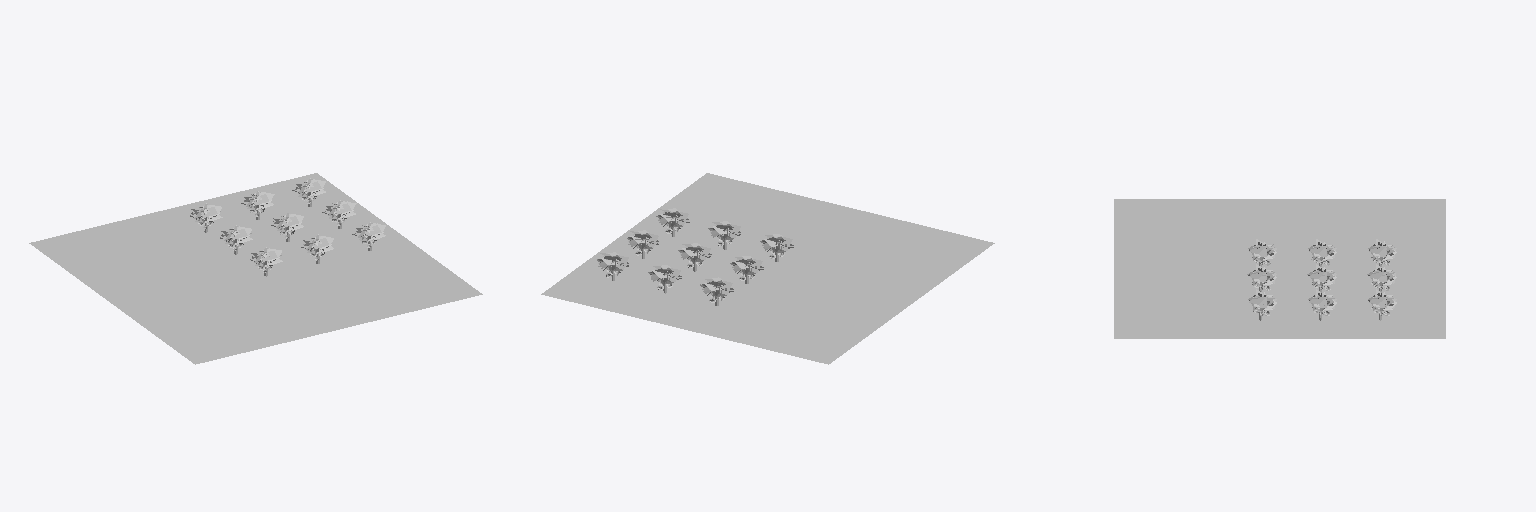
File: map1.obj
The picture shows the model from 3 angles: view 1: azimuth 30°, elevation 25°; view 2: azimuth 150°, elevation 25°; view 3: azimuth 270°, elevation 25°; orthographic projection.
Visible parts, largest first — view 1: Plane_Plane.033; view 2: Plane_Plane.033; view 3: Plane_Plane.033.
Part boxes in pixels (x1,y1,x2,y2): Plane_Plane.033: (29,173,482,364); Plane_Plane.033: (541,173,994,364); Plane_Plane.033: (1114,199,1445,338).
Size of the model in its own units: 555 by 48.15 by 555.